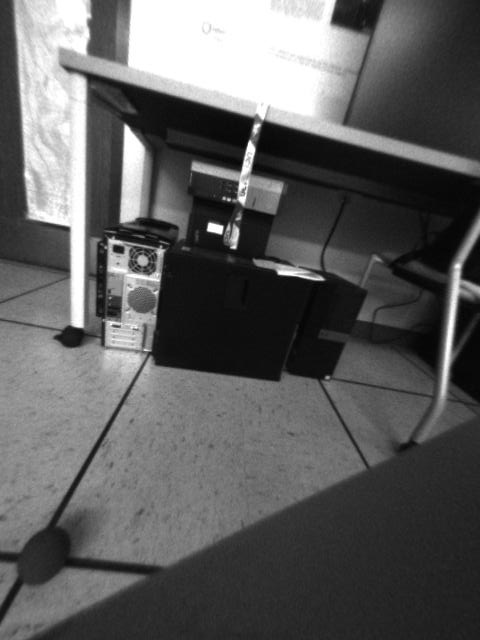dogtoy: (7, 509, 81, 598)
